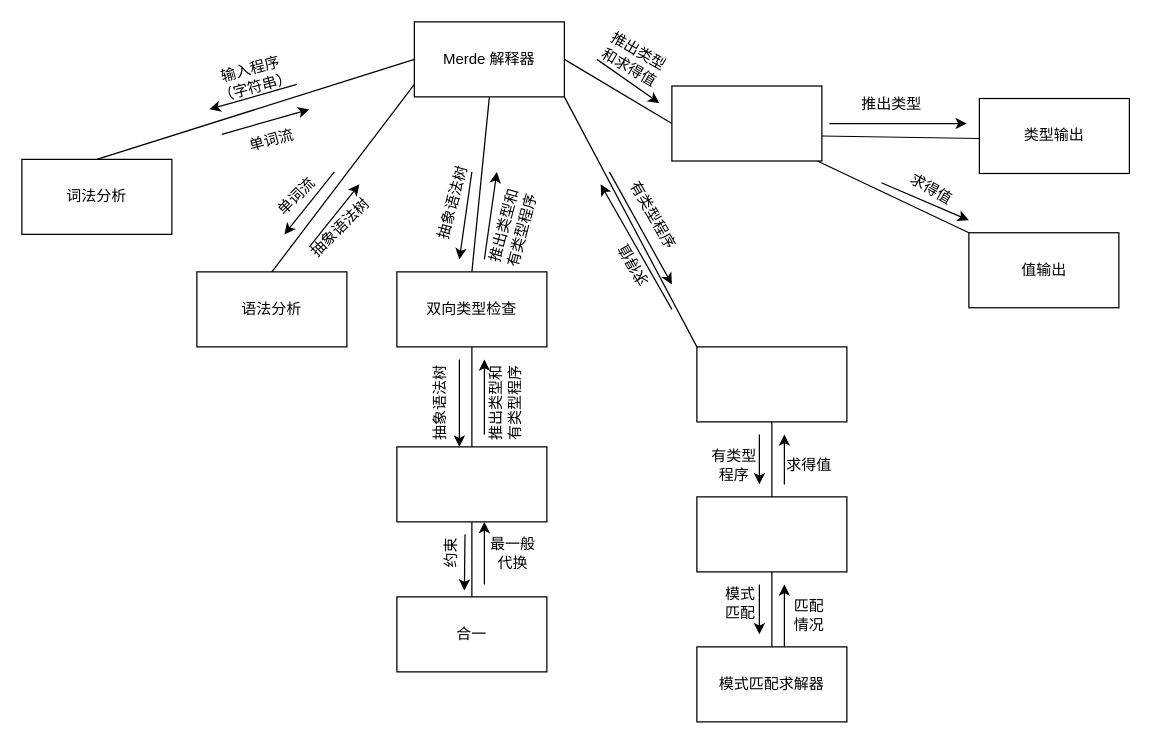
The diagram is 1151 pixels wide and 744 high, and some of its shapes have lost their labels. The centre of each missing label's shape, as x and y in pixels:
求值: pixel 771 534
类型推导: pixel 471 484
解释: pixel 771 384
语法的定义以及值和类型输出: pixel 746 123
